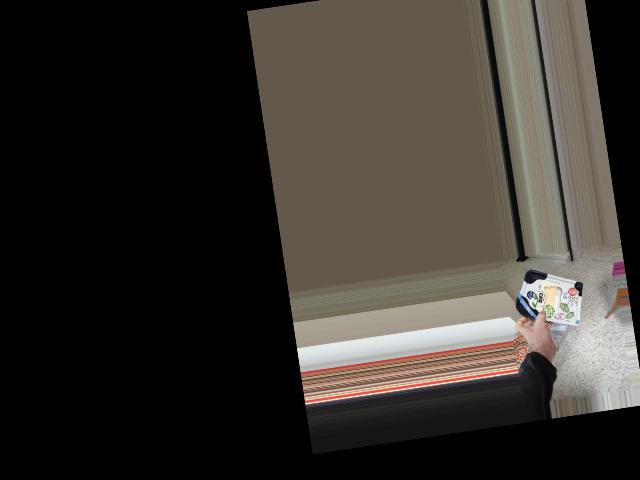cheese: (509, 267, 586, 324)
